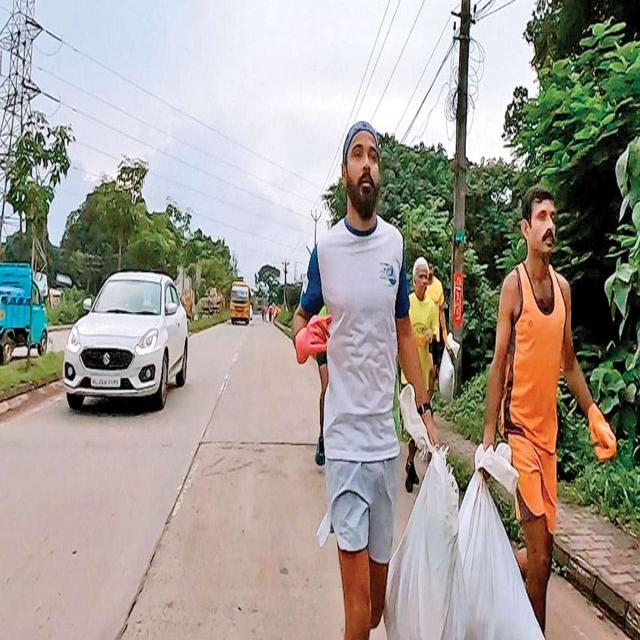Clean road: (0, 310, 640, 640)
